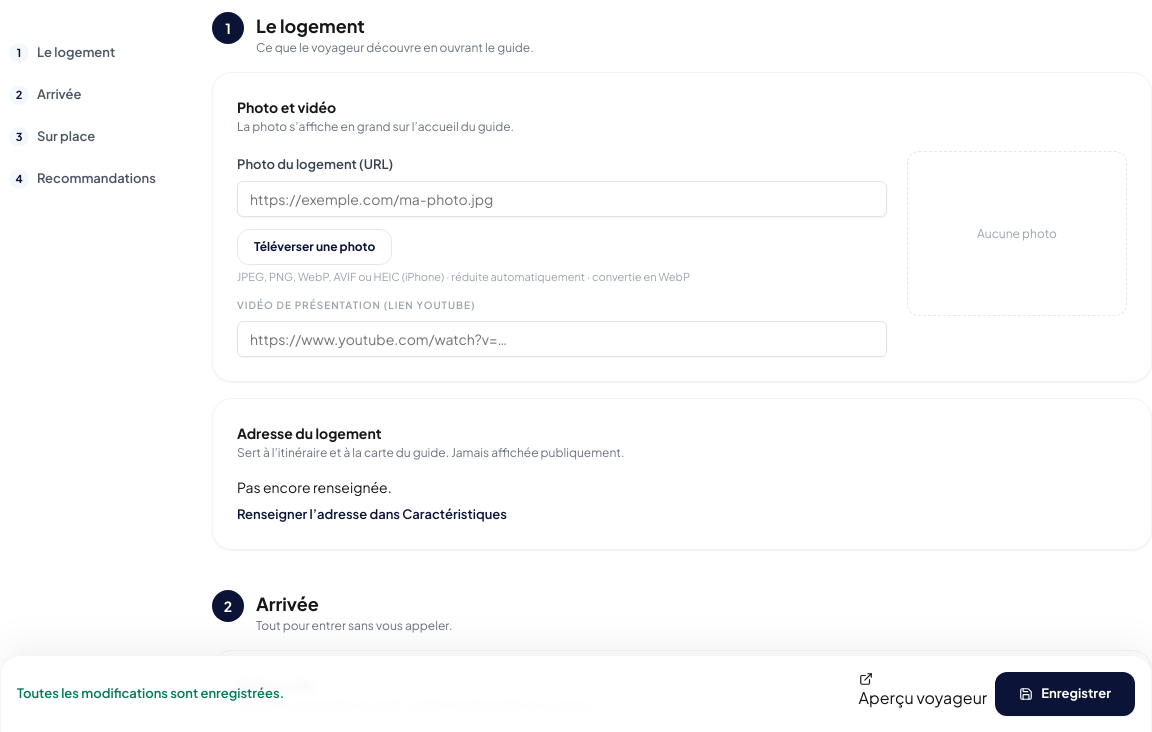
Test: CustomizationForm — practical blocks payload › shows API field validation details when customization save is rejected
Step 1. Click the button "Enregistrer" → (1065, 694), box [995,672,1135,716]
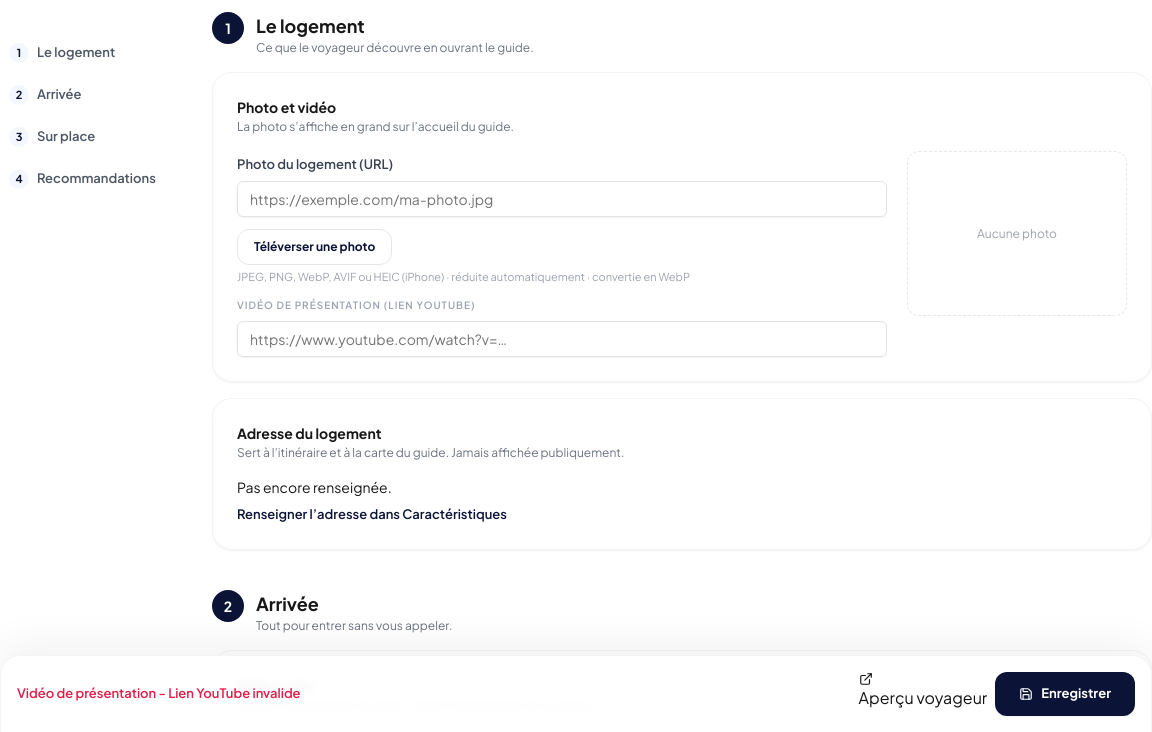
Check: the text "Vidéo de présentation - Lien YouTube invalide" is shown, box [17,684,301,704]
